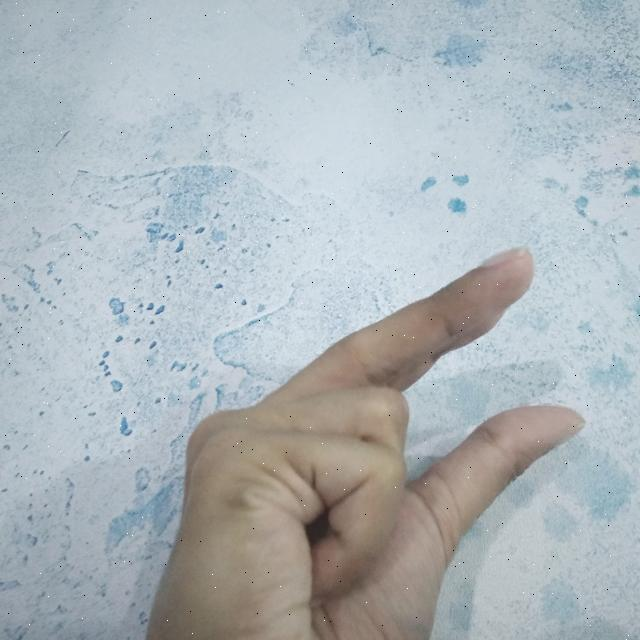G: (147, 243, 589, 640)
